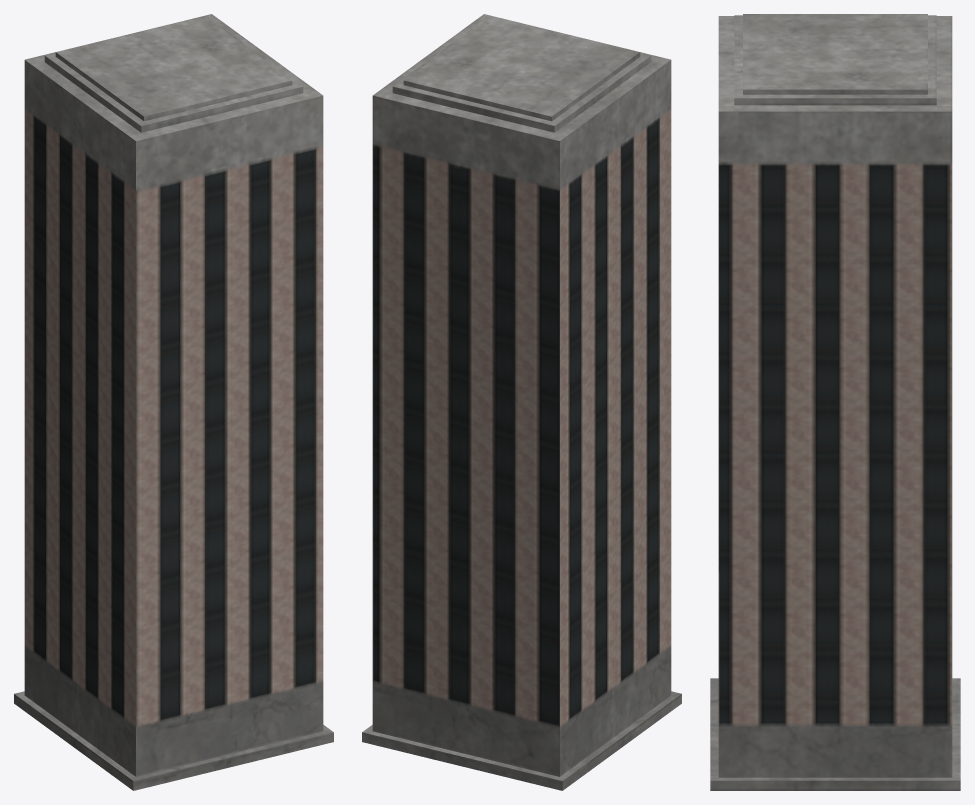
Rendered from tower0.glb.
3 renders of one model, left to right at view 1: azimuth 30°, elevation 25°; view 2: azimuth 150°, elevation 25°; view 3: azimuth 270°, elevation 25°, orthographic. The views are drawn at different scales.
Visible parts, largest first — view 1: Cube; view 2: Cube; view 3: Cube.
Boxes of the visible parts, x1,y1,x2,y2 form: Cube: (14,14,333,790); Cube: (362,14,681,790); Cube: (710,14,960,790).
Size of the model in its own units: 1.75 by 5.46 by 1.8.
Materials: 1 (1 with a texture image).
